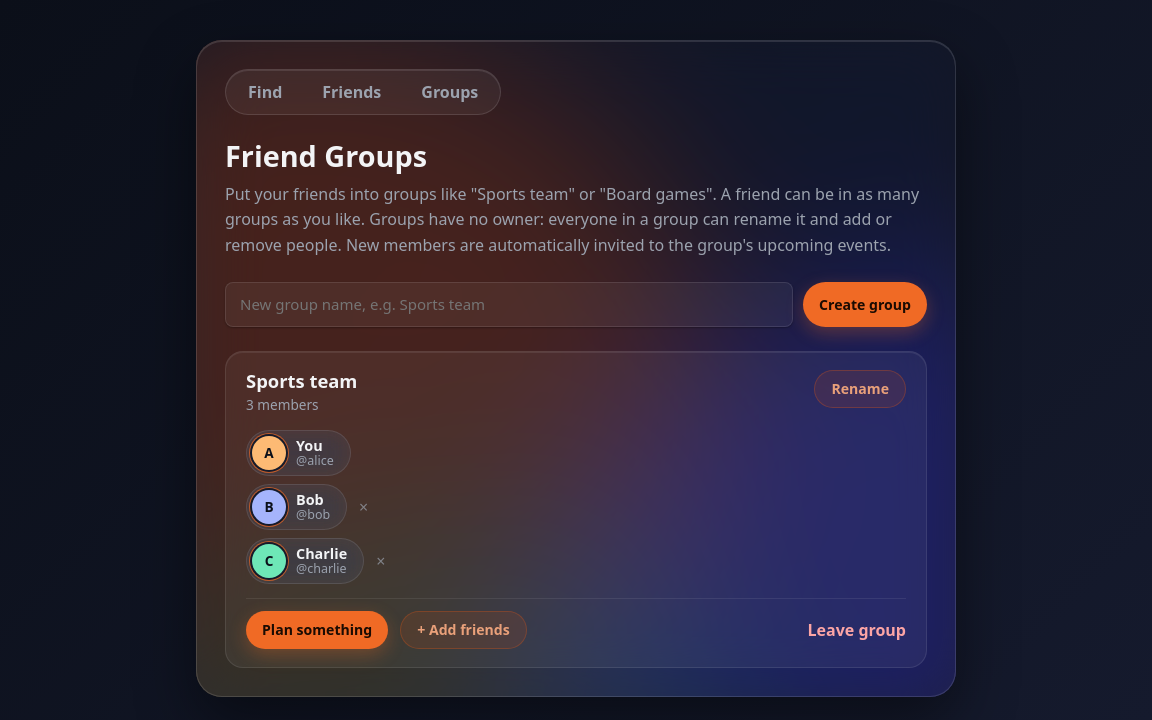
any member can rename the group and remove people
Click the button named "Remove Charlie from Sports team" at (381, 561), box [374, 553, 387, 569]
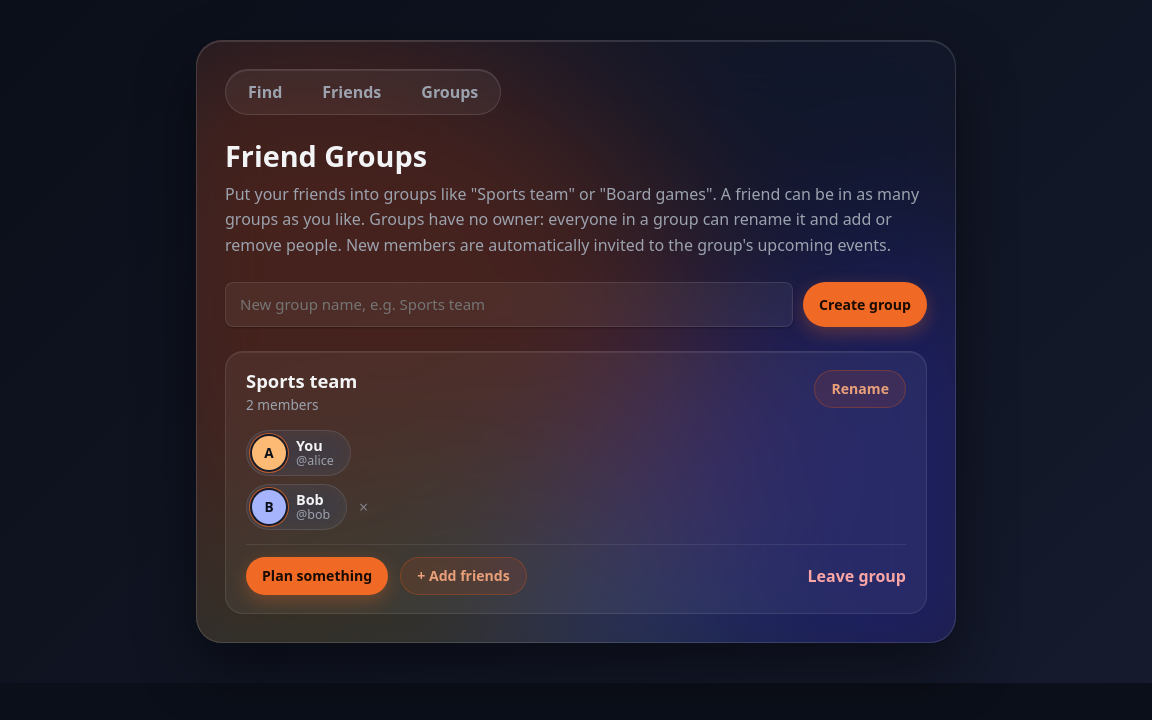
Expected: the text "2 members" is shown, [246, 395, 319, 414]
Click the button with aria-label "Rename Sports team" at (860, 389), box [814, 370, 906, 408]
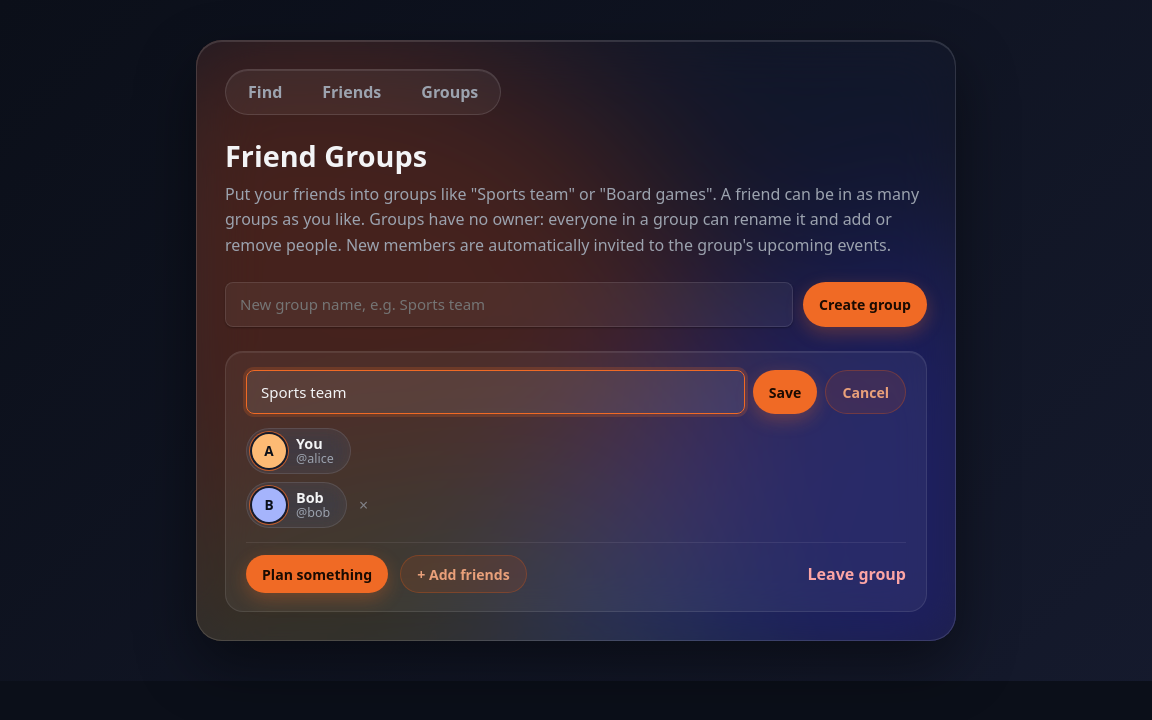
Replace the text in the field named "Group name" with "Football" at (495, 392), box [246, 370, 745, 414]
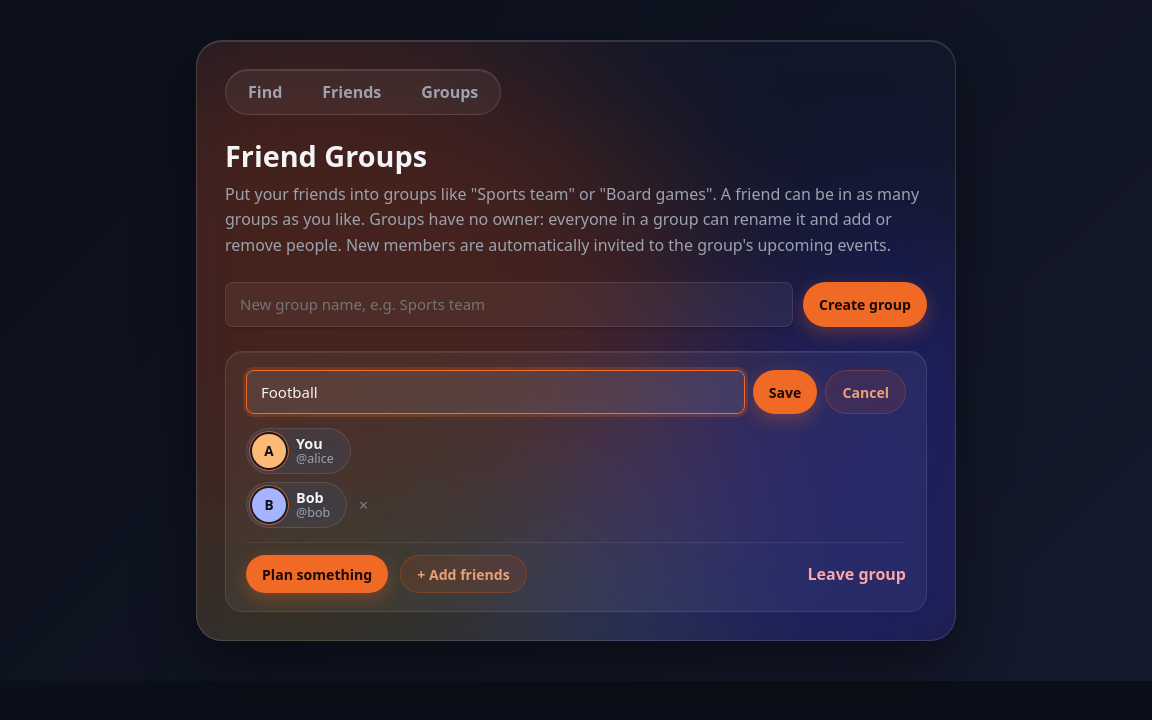
Click the button "Save" at (785, 392), box [753, 370, 817, 414]
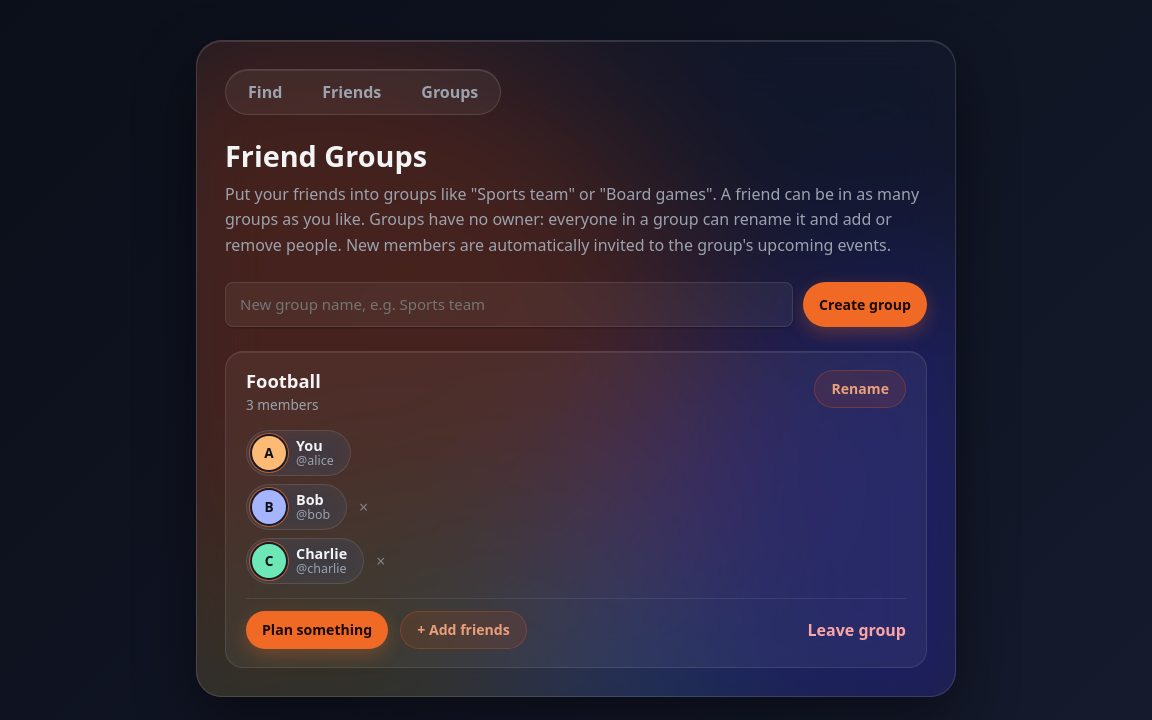
Expected: the heading "Football" is shown, [246, 370, 321, 392]
